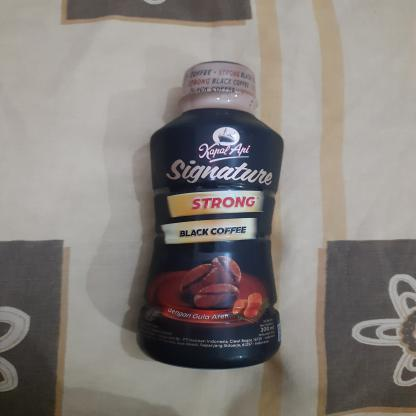plastic: (132, 59, 287, 372)
